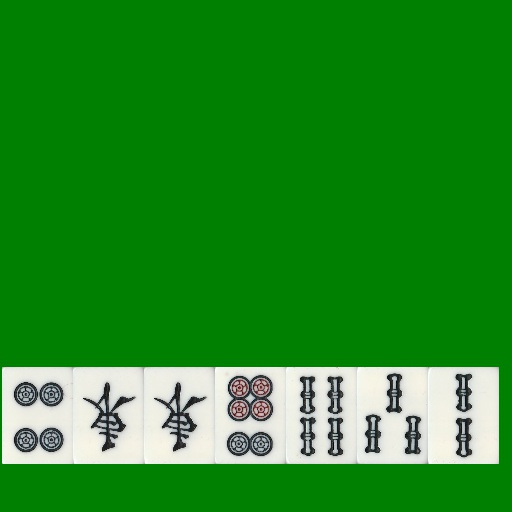2s: (428, 367, 499, 464)
3s: (357, 367, 428, 464)
4p: (2, 367, 73, 464)
4s: (286, 367, 357, 464)
6p: (215, 367, 286, 464)
east: (73, 367, 144, 464), (144, 367, 215, 464)
